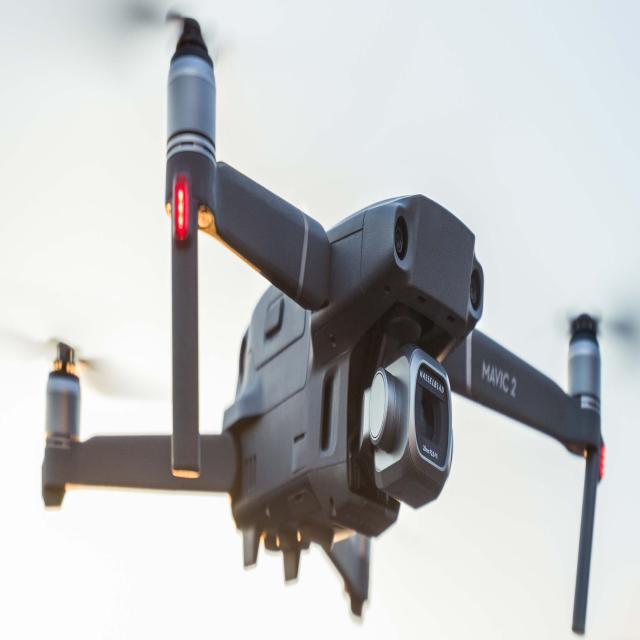drone: (8, 2, 639, 640)
